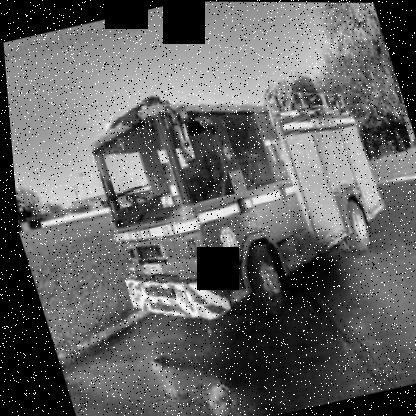emergency: (46, 47, 415, 365)
